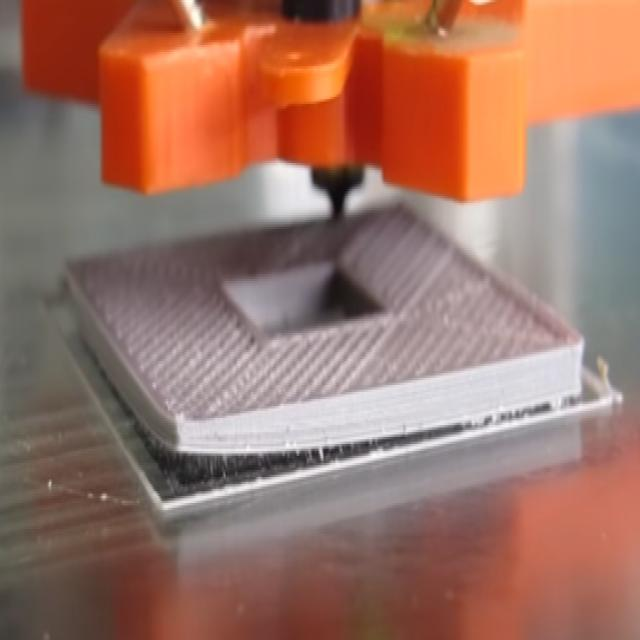Warping: (114, 396, 394, 532)
